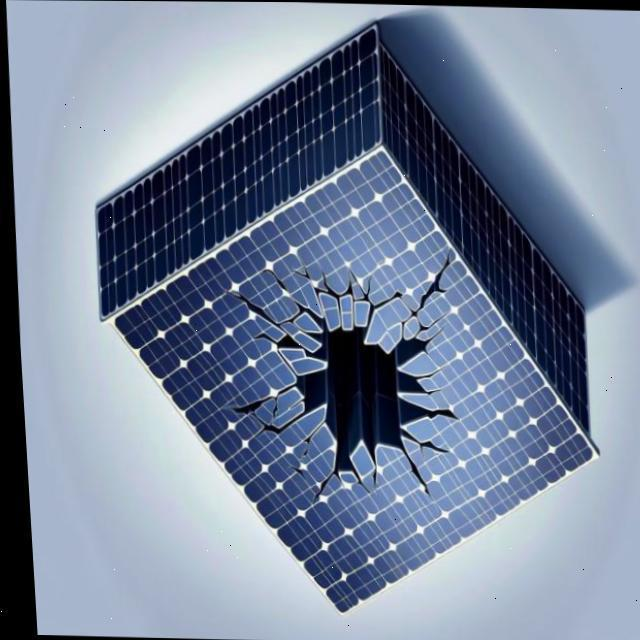Anomaly Solar Panel: (104, 146, 590, 633)
Structural Damage: (266, 289, 453, 484), (344, 248, 469, 348), (276, 247, 370, 331), (241, 265, 325, 348), (218, 381, 309, 451), (218, 282, 286, 335), (387, 424, 447, 475), (389, 439, 434, 506), (298, 466, 346, 516), (407, 313, 445, 357), (291, 415, 323, 460), (411, 364, 447, 385), (345, 464, 366, 498), (423, 406, 457, 423), (248, 329, 275, 346), (281, 463, 303, 481), (422, 386, 440, 398), (367, 468, 373, 497)
